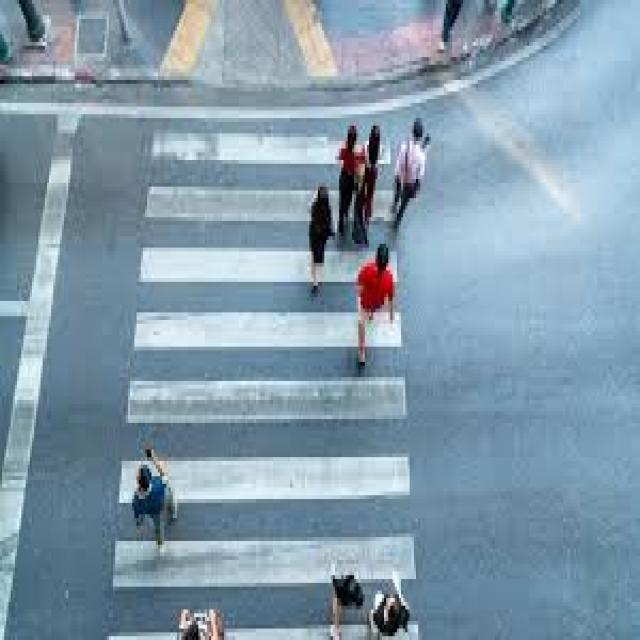Pedestrians: (352, 244, 403, 385), (124, 457, 183, 549), (395, 110, 435, 232), (305, 183, 337, 301), (335, 122, 360, 236), (363, 125, 384, 228)
